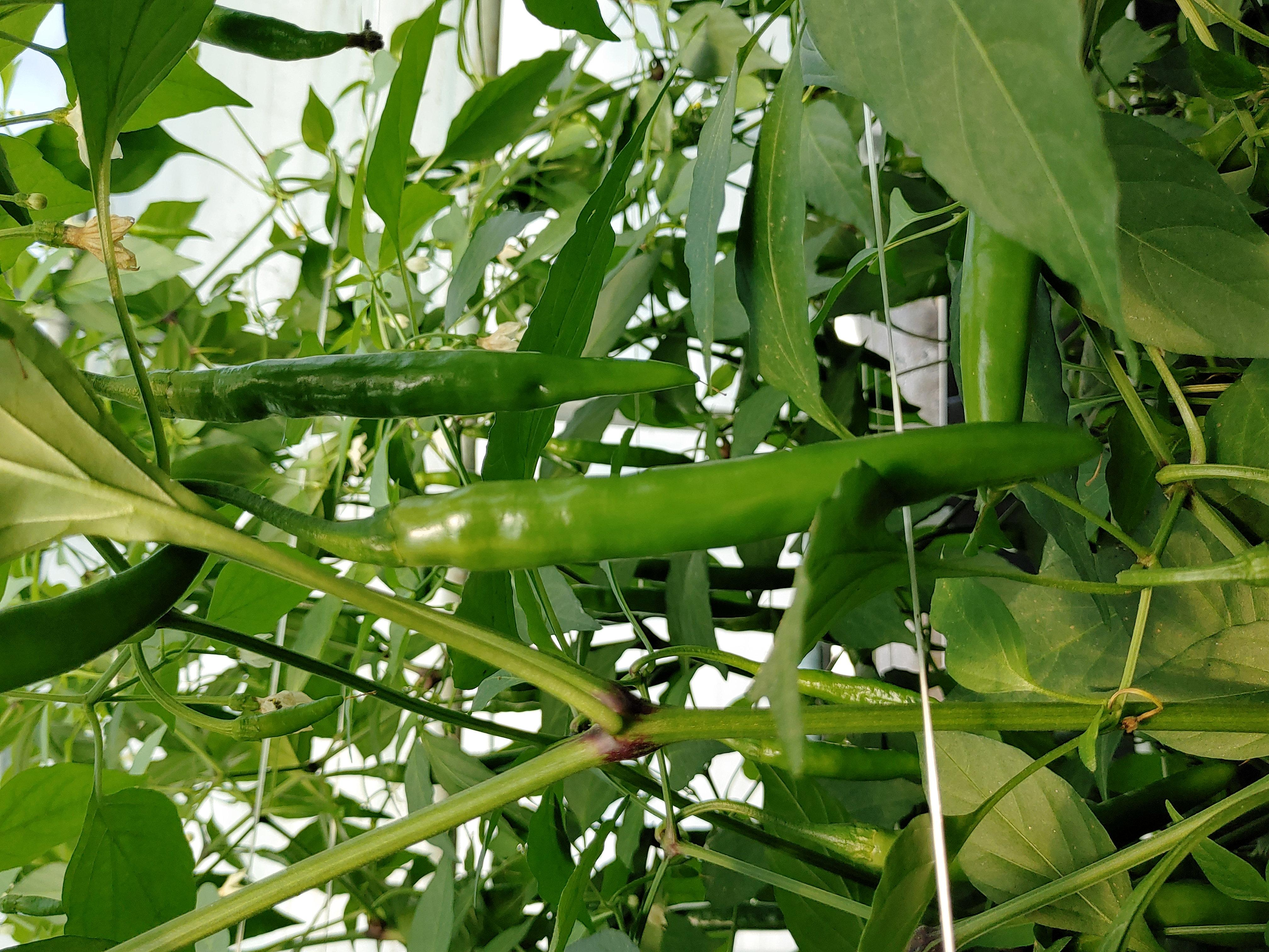Buah Cabai Sehat: (370, 416, 1105, 573), (131, 341, 700, 435)
Daun Cabai Sehat: (787, 0, 1158, 401)
